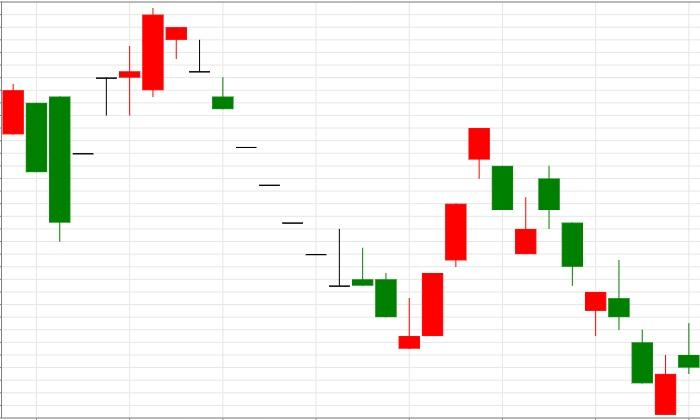morning_star_rise: (165, 26, 444, 349)
three_white_soldiers_rise: (165, 26, 490, 349)
